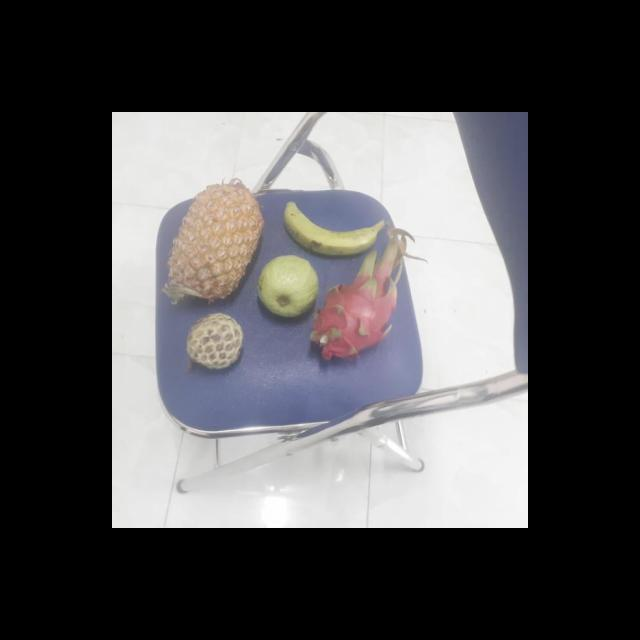Sakya fruit: (180, 313, 242, 371)
banana: (281, 196, 383, 257)
guava: (253, 254, 320, 318)
pineapple: (160, 182, 262, 304)
pitaya: (308, 244, 398, 358)
